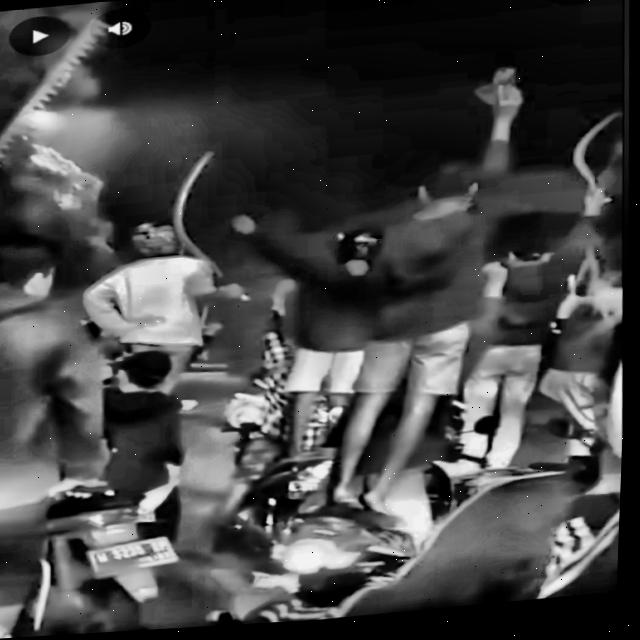celurit: (163, 147, 259, 305), (562, 105, 627, 218)
robbery: (0, 58, 627, 639)
